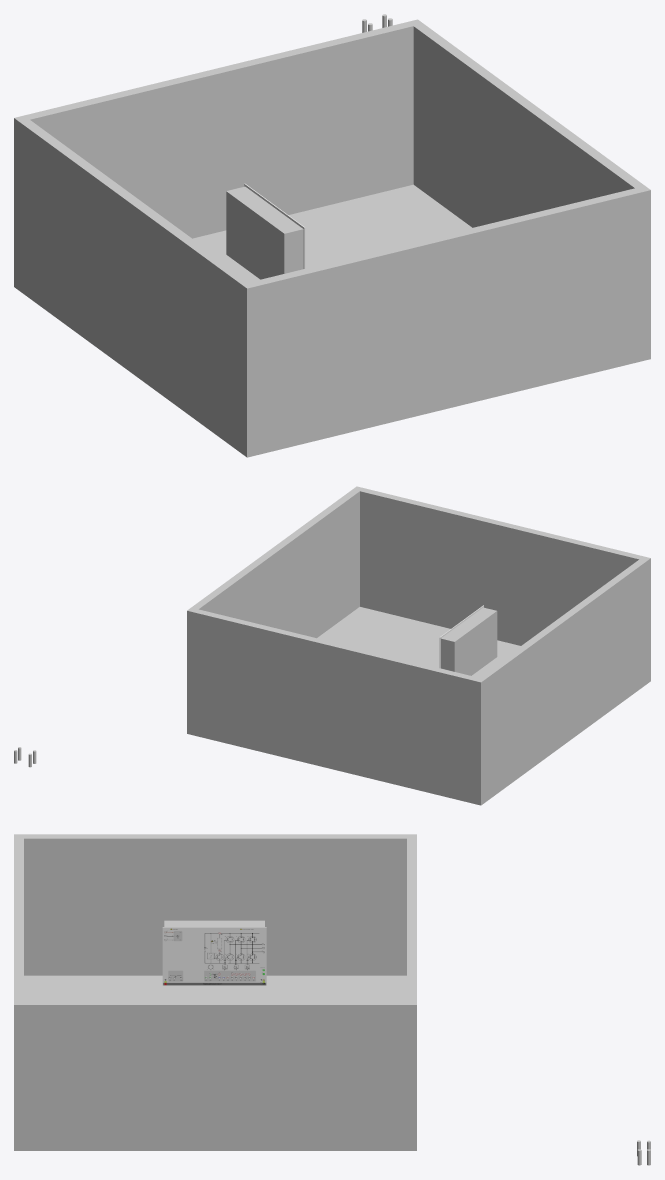
The model's file is raum mit models2.fbx.
3 renders of one model, top to bottom at view 1: azimuth 30°, elevation 25°; view 2: azimuth 150°, elevation 25°; view 3: azimuth 270°, elevation 25°, orthographic. The views are drawn at different scales.
Parts seen in each view (by area): view 1: Würfel.001, Würfel.002, Würfel.003, Würfel.004, Würfel, Würfel.005; view 2: Würfel.002, Würfel.001, Würfel.003, Würfel.004, Würfel, Würfel.005; view 3: Würfel.004, Würfel.003, Würfel, Würfel.006, Würfel.001, Würfel.002, Würfel.005.
Part boxes in pixels (box(x1,y1,x2,y2)): Würfel.001: box(243, 186, 650, 457); Würfel.002: box(14, 19, 422, 289); Würfel.003: box(16, 116, 257, 457); Würfel.004: box(408, 20, 650, 360); Würfel: box(14, 184, 650, 457); Würfel.005: box(226, 186, 303, 279); Würfel.002: box(187, 609, 485, 797); Würfel.001: box(353, 486, 650, 680); Würfel.003: box(473, 556, 650, 804); Würfel.004: box(187, 487, 361, 638); Würfel: box(288, 607, 650, 805); Würfel.005: box(441, 607, 497, 675); Würfel.004: box(14, 1000, 416, 1150); Würfel.003: box(15, 834, 416, 975); Würfel: box(14, 975, 406, 1150); Würfel.006: box(162, 927, 266, 985); Würfel.001: box(14, 834, 23, 1150); Würfel.002: box(407, 834, 416, 1084); Würfel.005: box(164, 920, 264, 926).
Size of the model in its own units: 2510 by 800 by 3160.
Materials: 1 (1 with a texture image).
